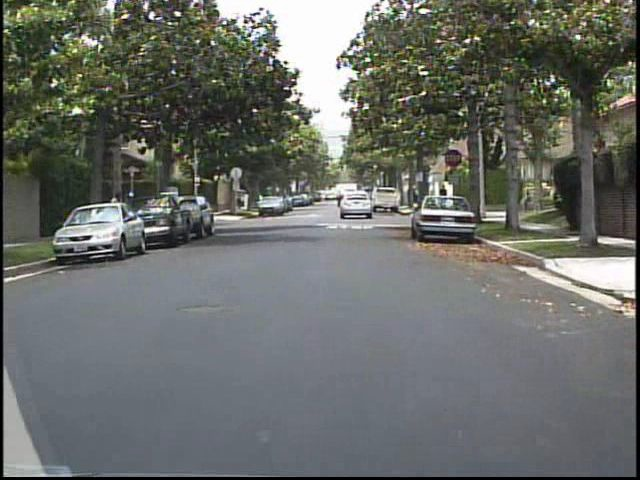person: (108, 189, 126, 233), (434, 180, 451, 213)
